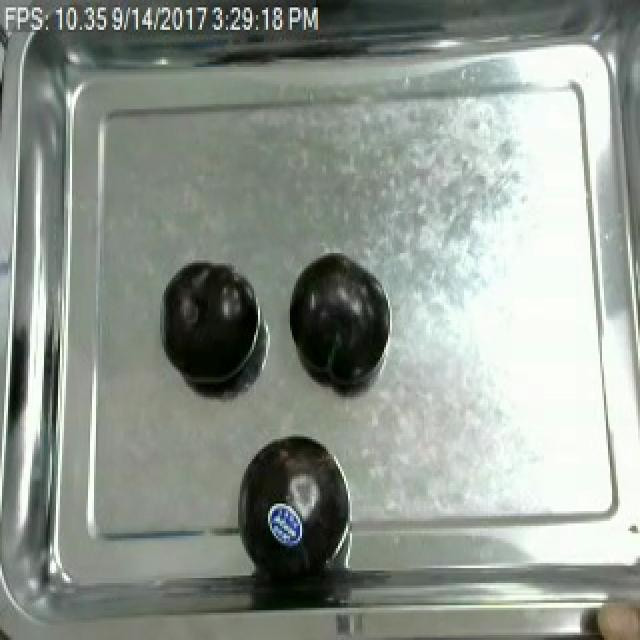Fruit: (288, 248, 388, 390), (158, 258, 258, 392), (588, 585, 640, 640), (262, 496, 308, 553)
